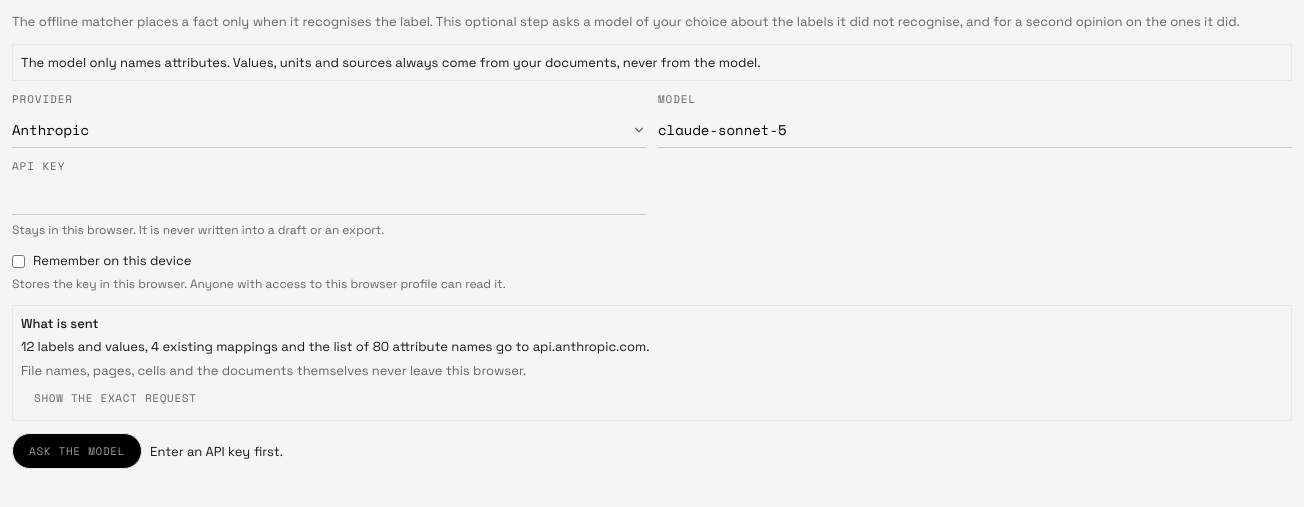
Scenario: AssistPanel › says what is sent, and shows the literal request on demand
Step 1. Click the button with test id "assist-disclosure-toggle" → (115, 398), box [21, 384, 210, 412]
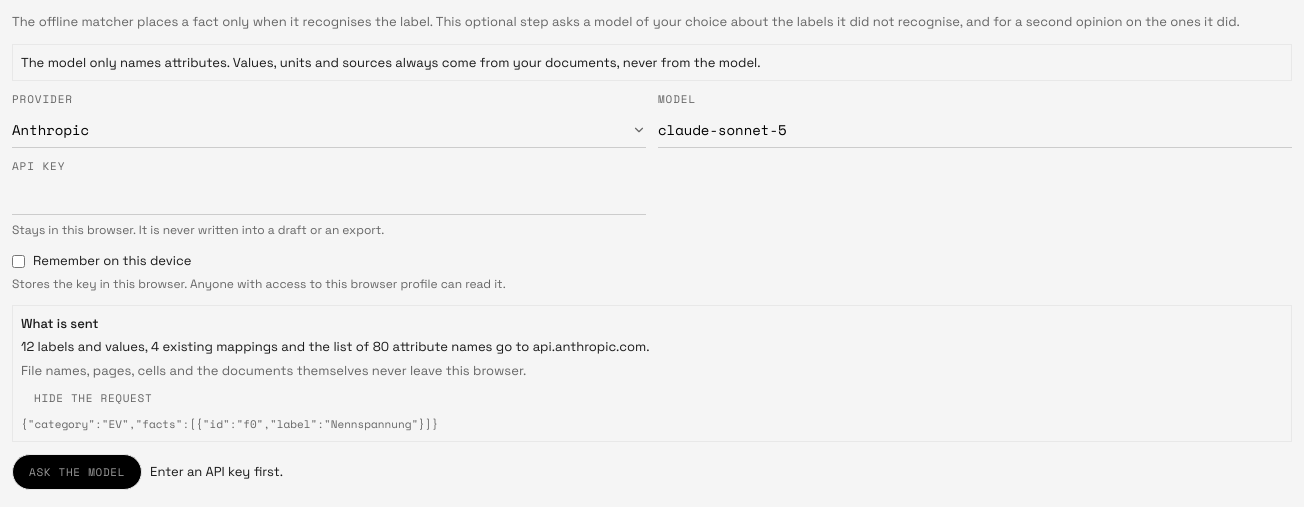
Now the text with test id "assist-request" shows "Nennspannung", box [21, 416, 438, 432]
